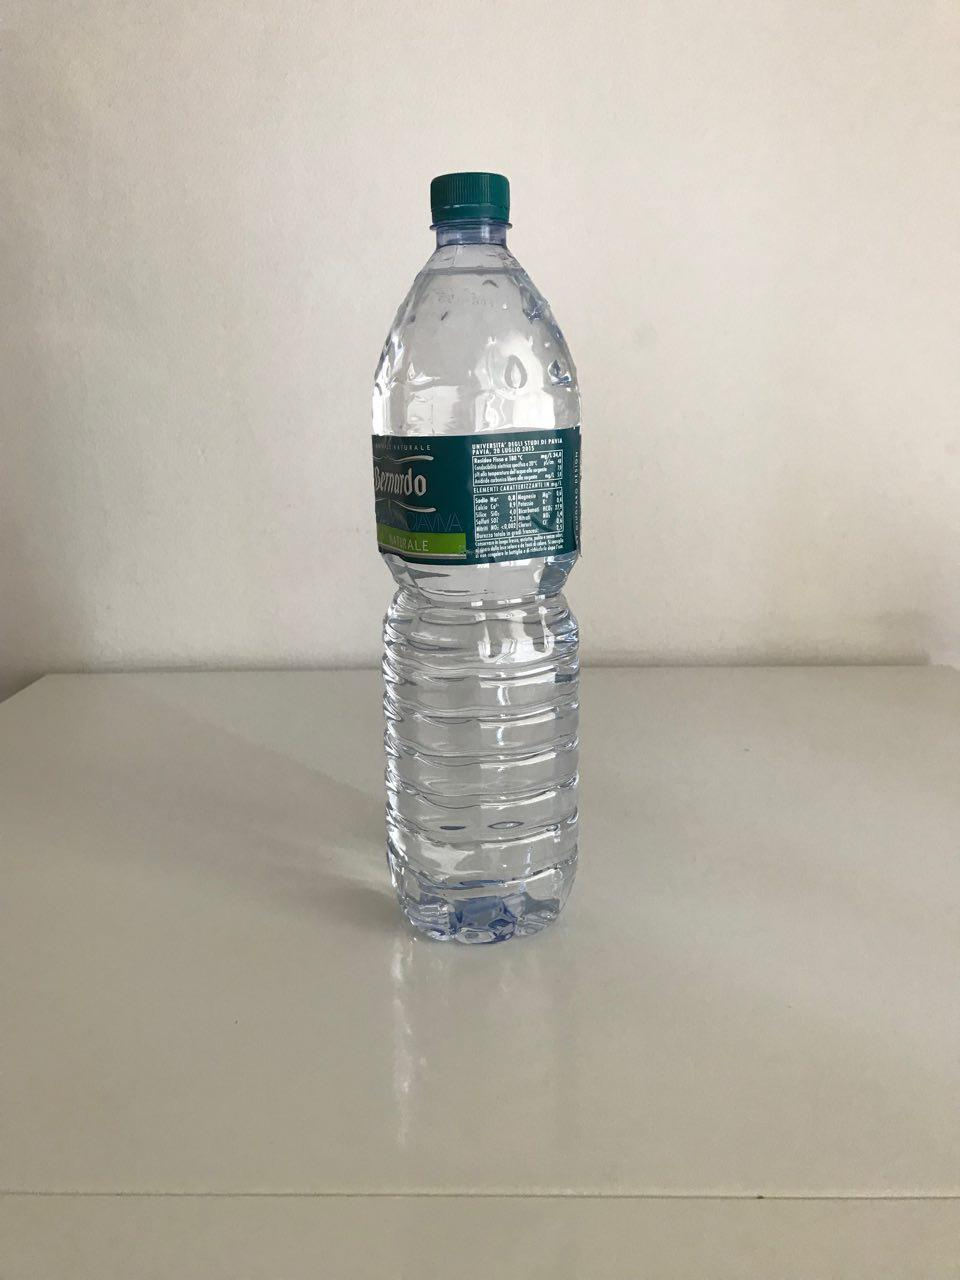san_bernardo: (369, 170, 585, 946)
